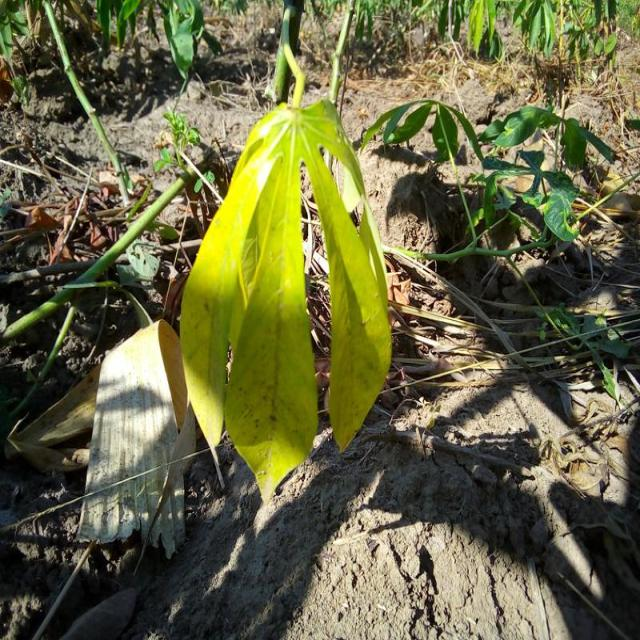cassava leaf: (178, 88, 392, 504), (75, 317, 197, 559)
